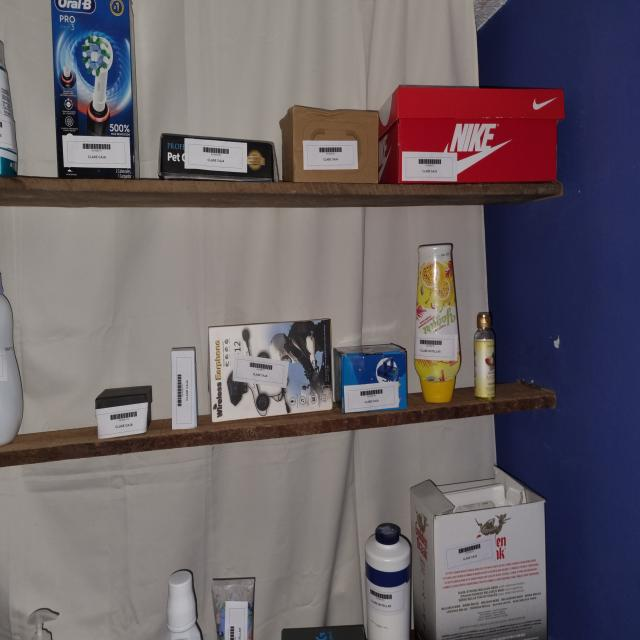botella: (414, 243, 461, 403), (363, 523, 411, 640), (0, 274, 23, 445), (211, 577, 255, 640), (165, 569, 203, 640), (0, 41, 18, 176), (474, 312, 496, 400), (28, 608, 59, 640)
caja: (410, 468, 547, 640), (379, 86, 564, 184), (51, 0, 136, 179), (208, 319, 333, 422), (280, 106, 379, 183), (159, 133, 277, 182), (333, 343, 407, 412), (95, 385, 152, 441), (171, 347, 198, 429)
